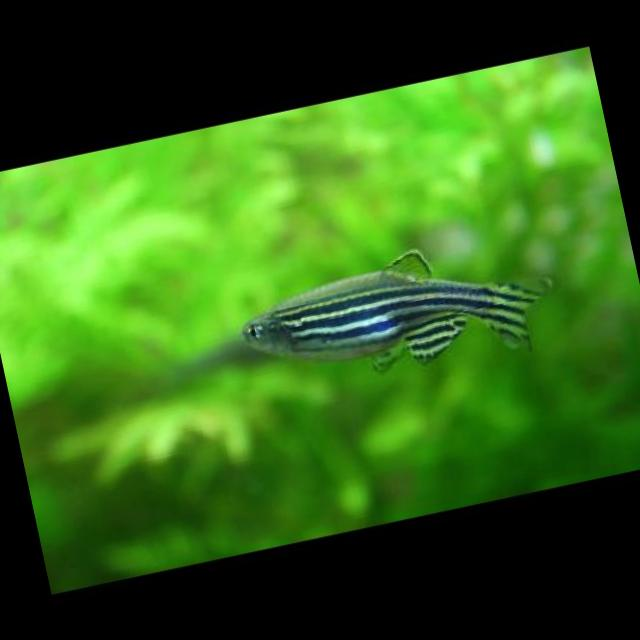ZebraFish: (227, 221, 566, 409)
